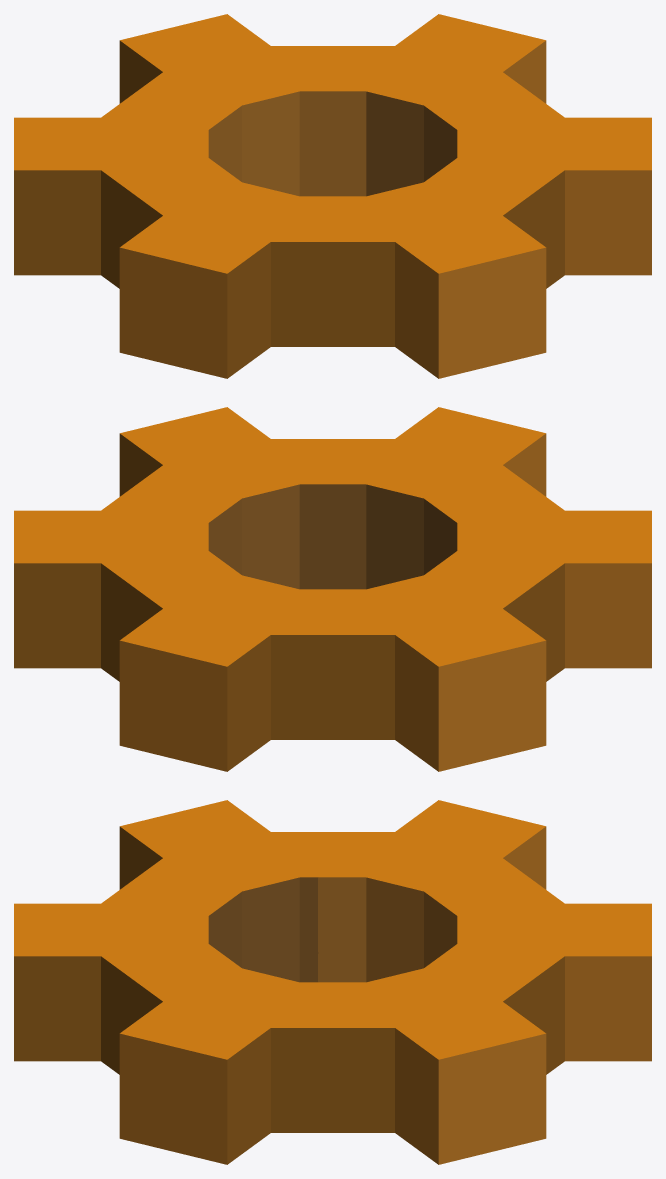
Rendered from Gear.fbx.
3 views of the same model, one above another, from view 1: azimuth 30°, elevation 25°; view 2: azimuth 150°, elevation 25°; view 3: azimuth 270°, elevation 25° (orthographic).
Visible parts, largest first — view 1: tube; view 2: tube; view 3: tube.
Part boxes in pixels (left/top/right/bottom): tube: left=14, top=14, right=651, bottom=378; tube: left=14, top=407, right=651, bottom=771; tube: left=14, top=800, right=651, bottom=1164.
Bounding box in the file's own units: 132 × 25 × 138.
1 material, 1 textured.
